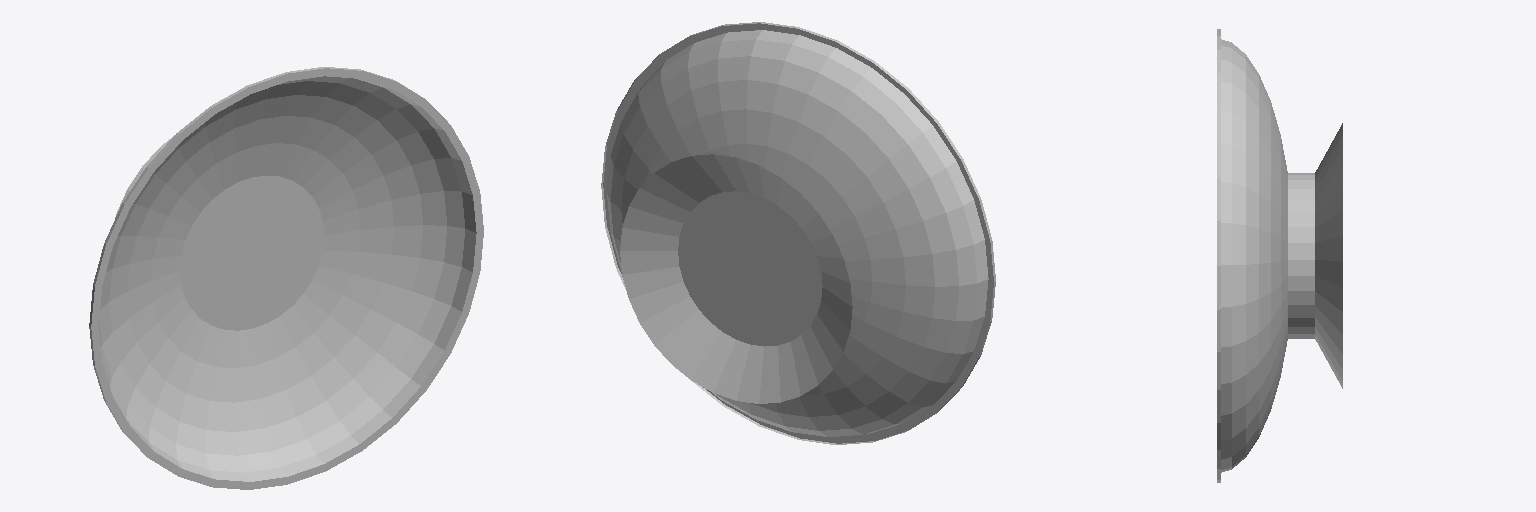
The model's file is Cuenc_back.obj.
3 renders of one model, left to right at view 1: azimuth 30°, elevation 25°; view 2: azimuth 150°, elevation 25°; view 3: azimuth 270°, elevation 25°, orthographic.
Visible parts, largest first — view 1: Cuenc_back_Sphere.001; view 2: Cuenc_back_Sphere.001; view 3: Cuenc_back_Sphere.001.
Boxes of the visible parts, x1,y1,x2,y2 form: Cuenc_back_Sphere.001: [89, 67, 483, 489]; Cuenc_back_Sphere.001: [601, 22, 995, 444]; Cuenc_back_Sphere.001: [1217, 29, 1342, 482].
Size of the model in its own units: 0.6295 by 0.6295 by 0.1759.